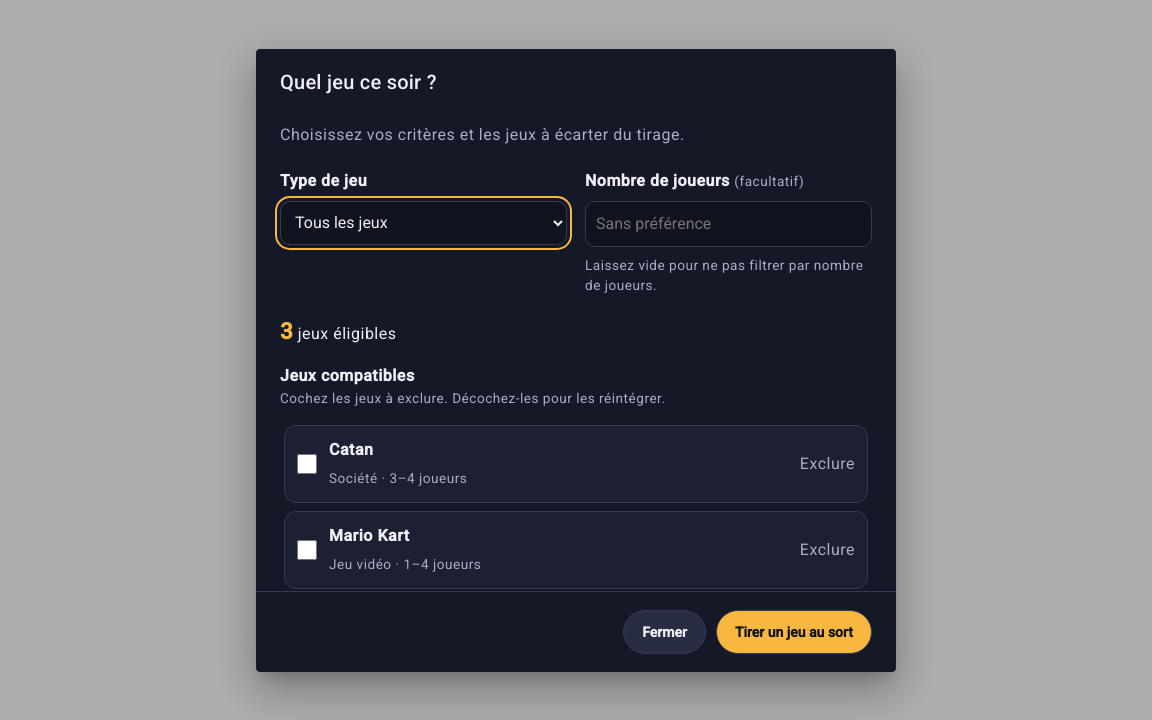
Test: Configuration du tirage de jeu › actualise la liste et le compteur pour chaque filtre de type
Select "Jeux de société" in the dropdown with id "tirage-type" at [424, 222], box [280,200,567,244]
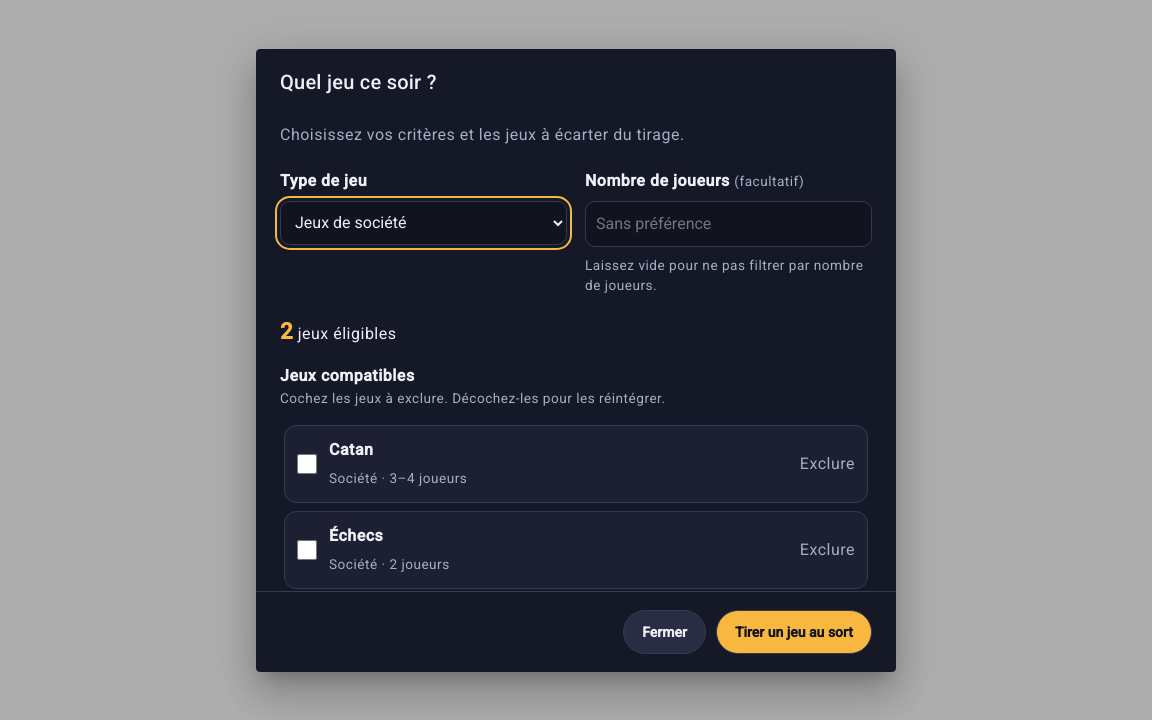
Result: the element with class "compteur" reads "2 jeux éligibles" at [280,318,396,344]
Select "Jeux vidéo" in the dropdown with id "tirage-type" at [424, 222], box [280,200,567,244]
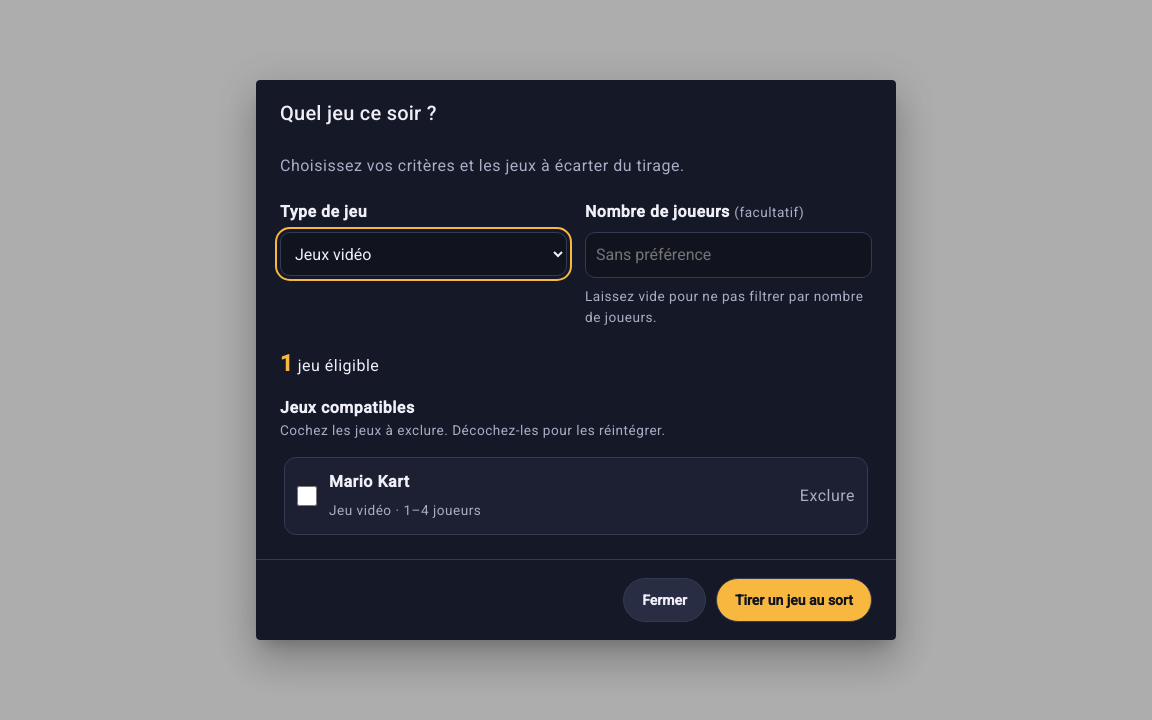
Result: the element with class "compteur" reads "1 jeu éligible" at [280,350,379,376]
Select "Tous les jeux" in the dropdown with id "tirage-type" at [424, 254], box [280,232,567,276]
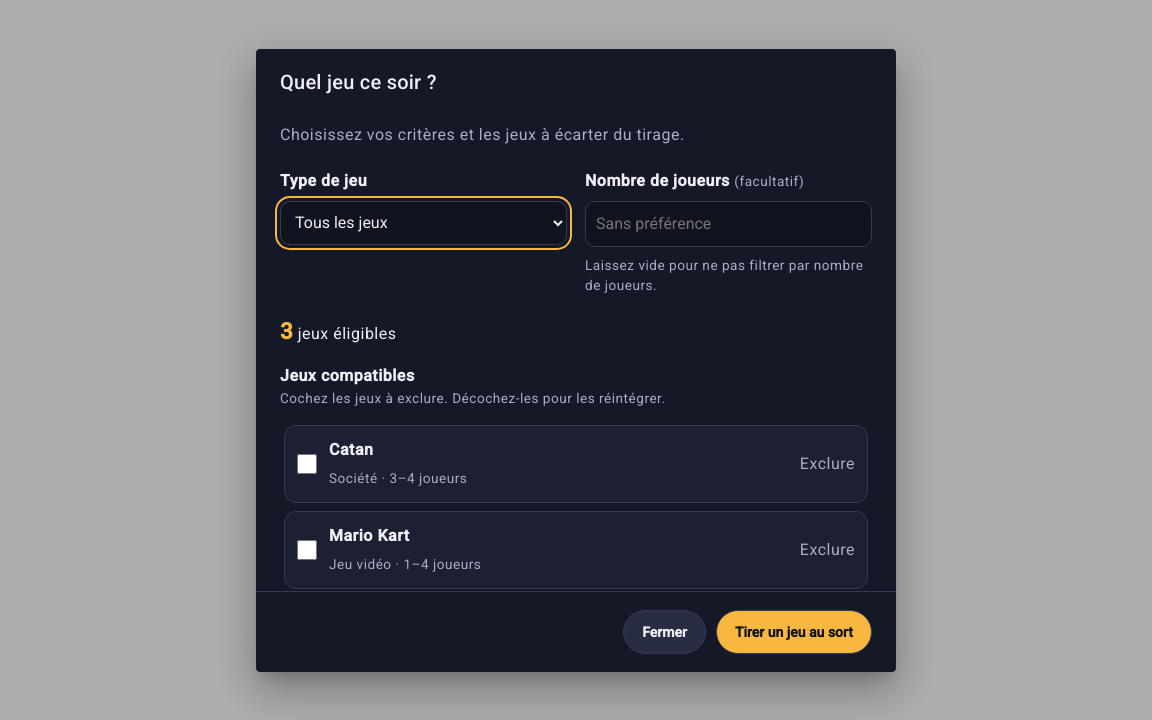
Result: the element with class "compteur" reads "3 jeux éligibles" at [280,318,396,344]
